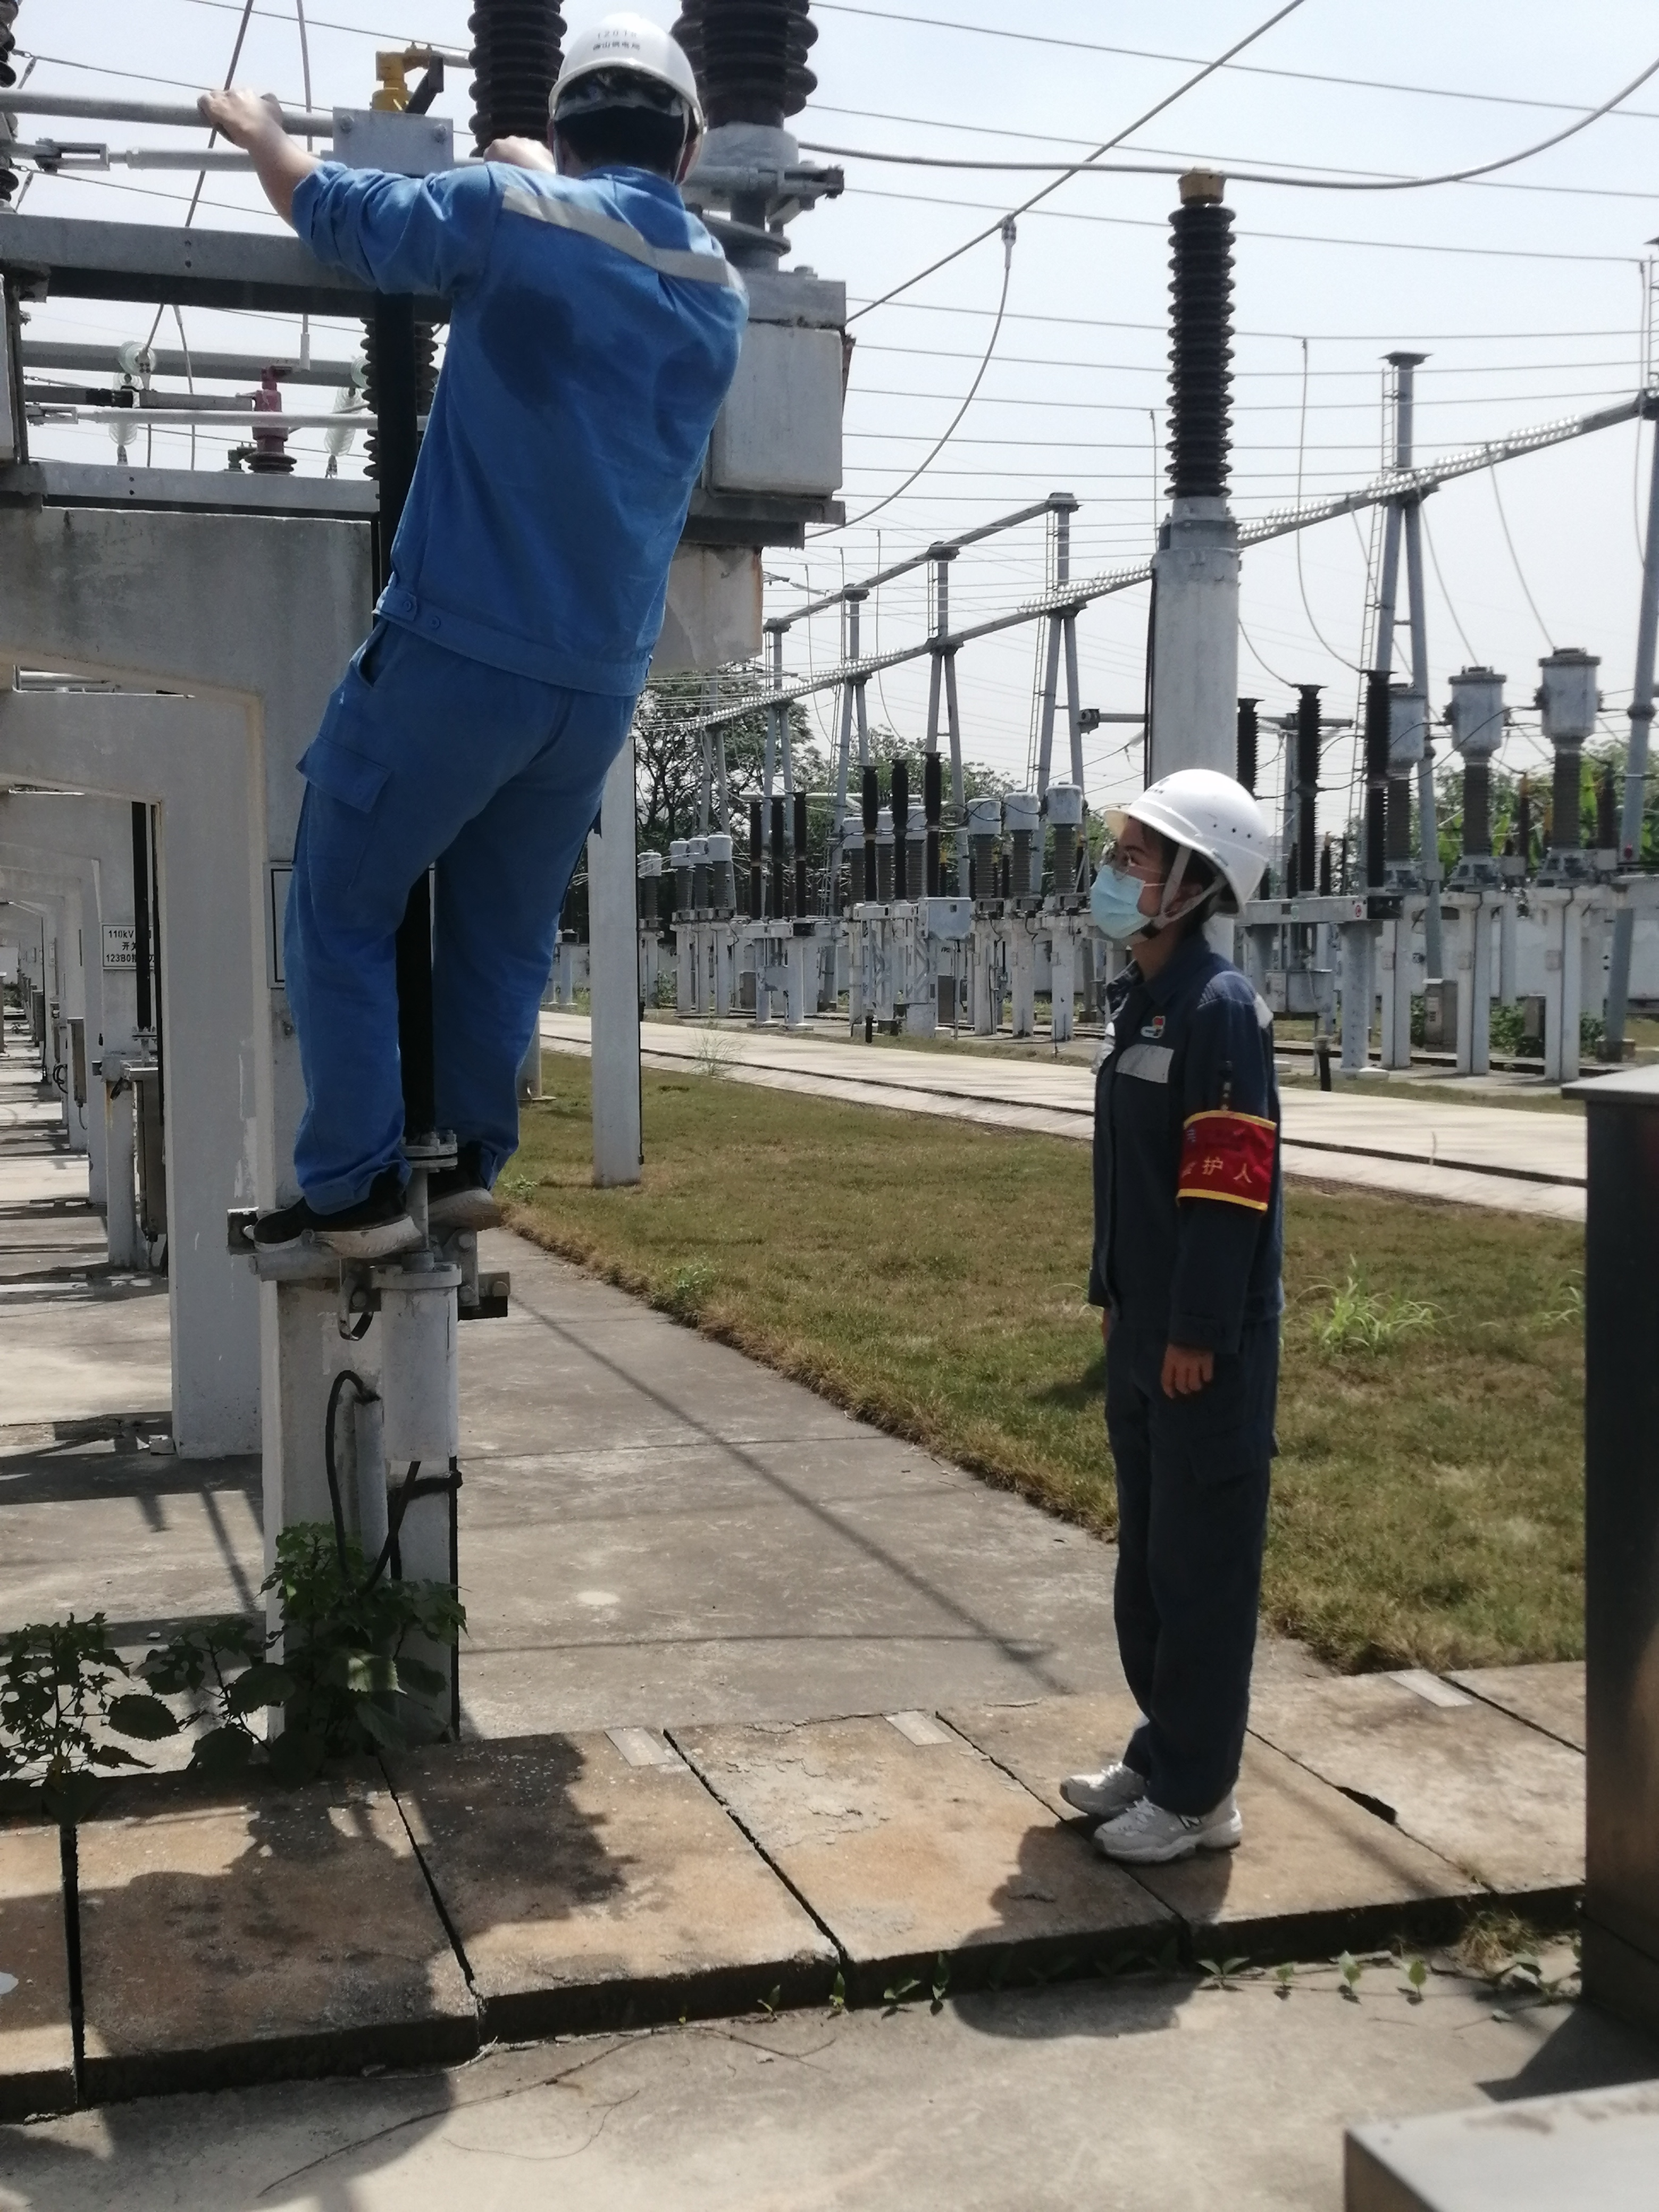badge: (1175, 1110, 1283, 1218)
downsuit: (275, 708, 635, 1198), (1099, 1354, 1277, 1806)
halt: (1087, 767, 1277, 952), (547, 14, 701, 181)
hand: (202, 86, 284, 137), (1160, 1347, 1217, 1406)
inear: (1158, 847, 1228, 933)
person: (201, 19, 750, 1255), (1063, 762, 1302, 1839)
upsuit: (300, 156, 753, 680), (1086, 952, 1292, 1339)
wrongtop: (198, 81, 350, 237)
